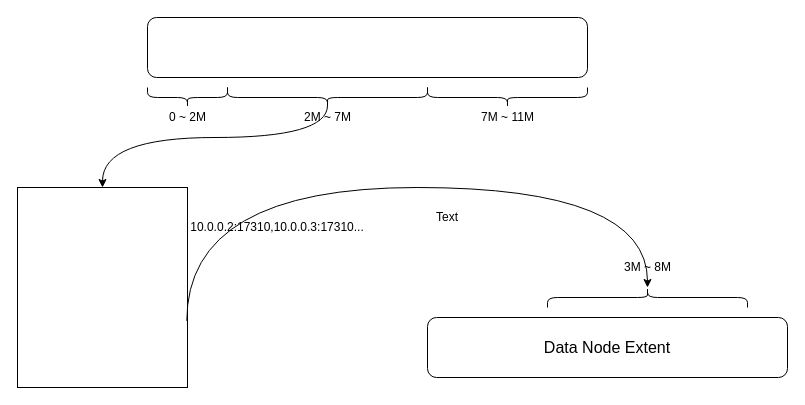
This 805x405 diagram has some shape labels left out. The shapes that lost their labels are listed below. From the top down, each one's centre as x and y in pixels, then its label:
point (367, 47): File
point (102, 287): Extent Key [ file offset, data partition id, extent id, extent offset, length ]
